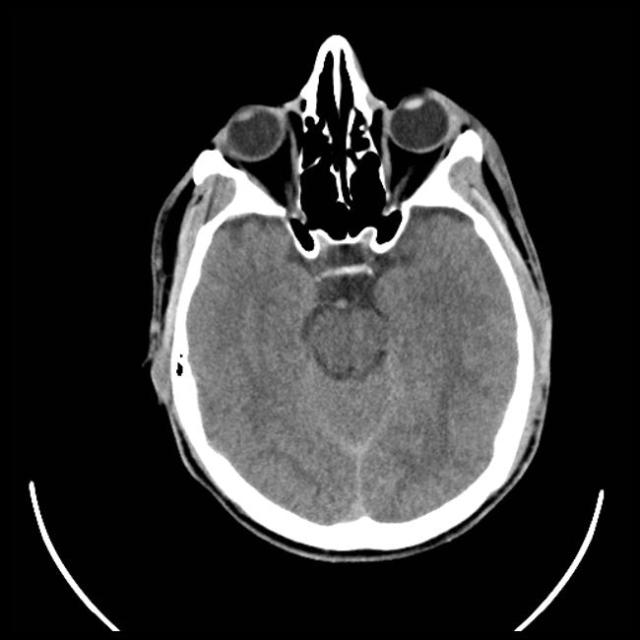lesion: (142, 33, 557, 562)
